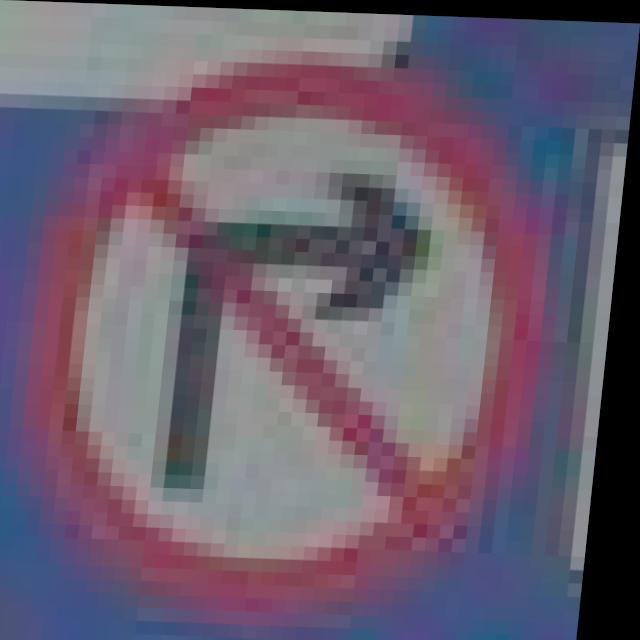RIGHT_TURN_PROHIBITED: (12, 41, 572, 630)
